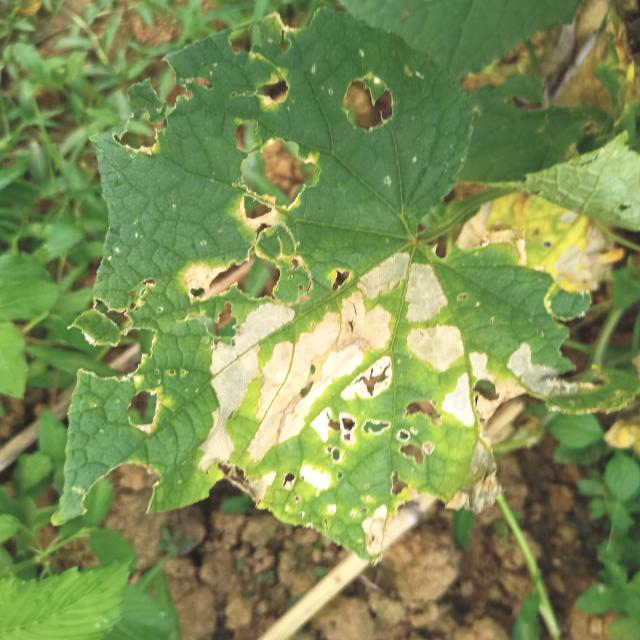disease_cucumber: (117, 210, 499, 501)
